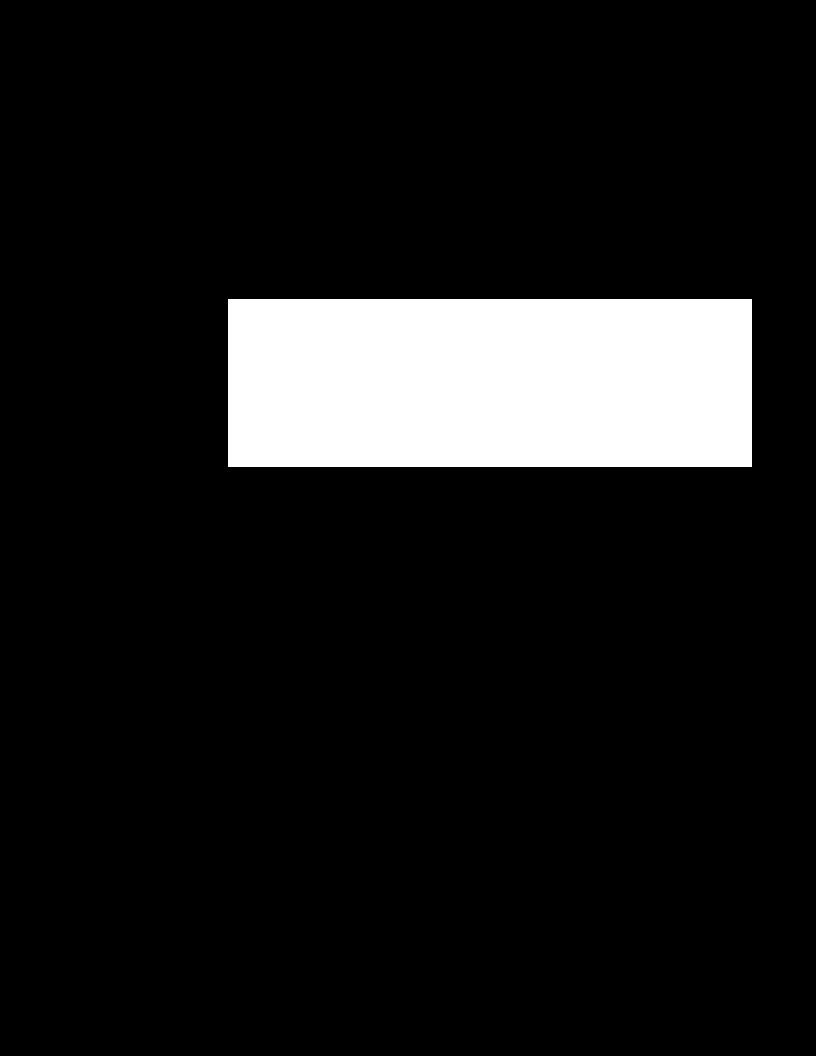table: (228, 299, 751, 466)
